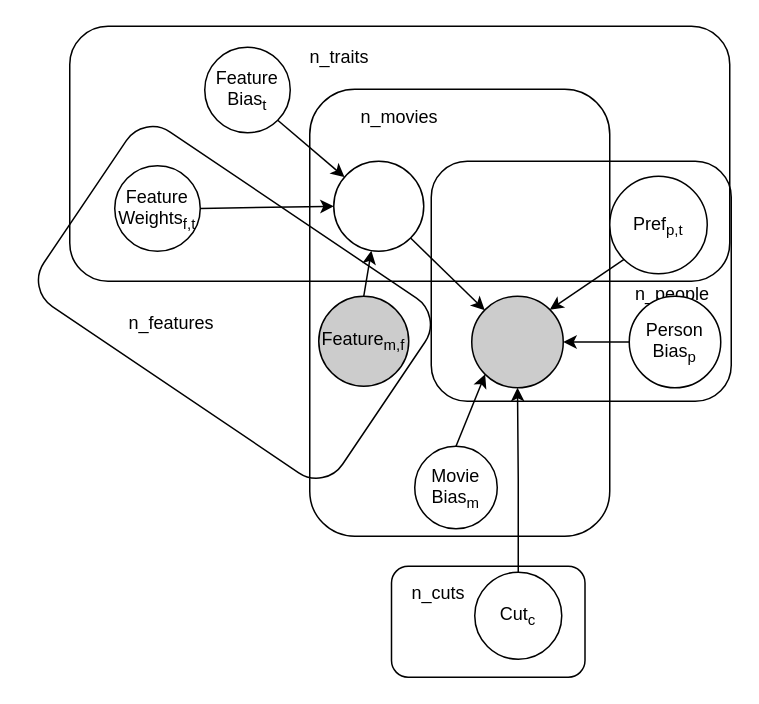
The diagram is 759 pixels wide and 704 high, and some of its shapes have lost their labels. The centre of each missing label's shape, as x and y in pixels:
"stars m,p" goes at point 516,341.
"Trait m,t" goes at point 378,205.
